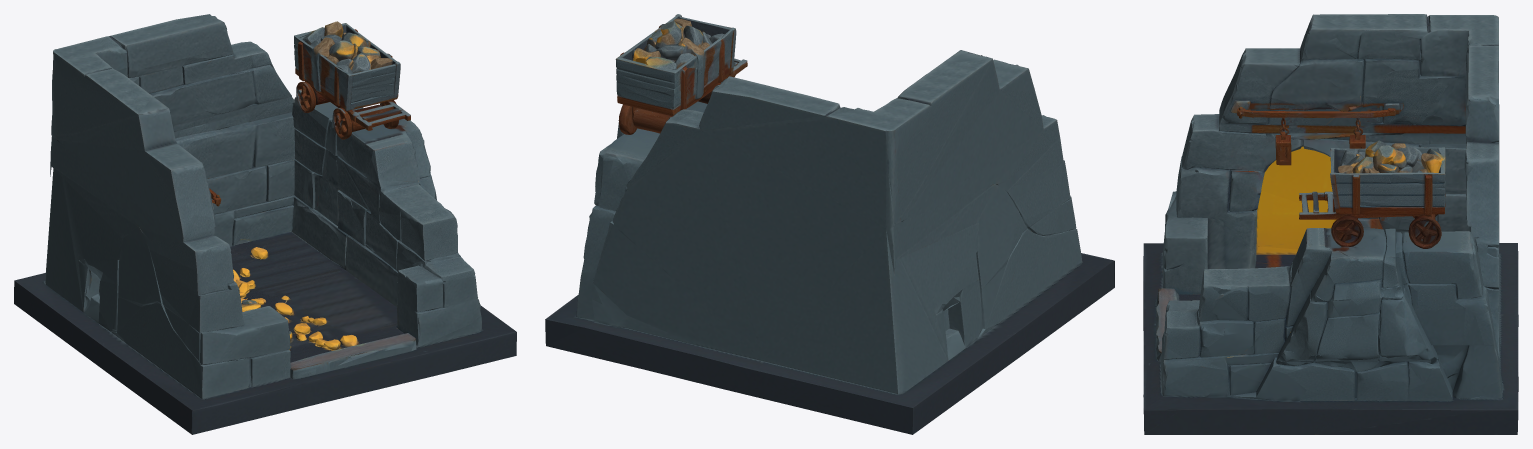
The model's file is quarry.glb.
3 renders of one model, left to right at view 1: azimuth 30°, elevation 25°; view 2: azimuth 150°, elevation 25°; view 3: azimuth 270°, elevation 25°, orthographic. The views are drawn at different scales.
Bounding box in the file's own units: 1.9 × 1.39 × 1.76.
Materials: 1 (1 with a texture image).
